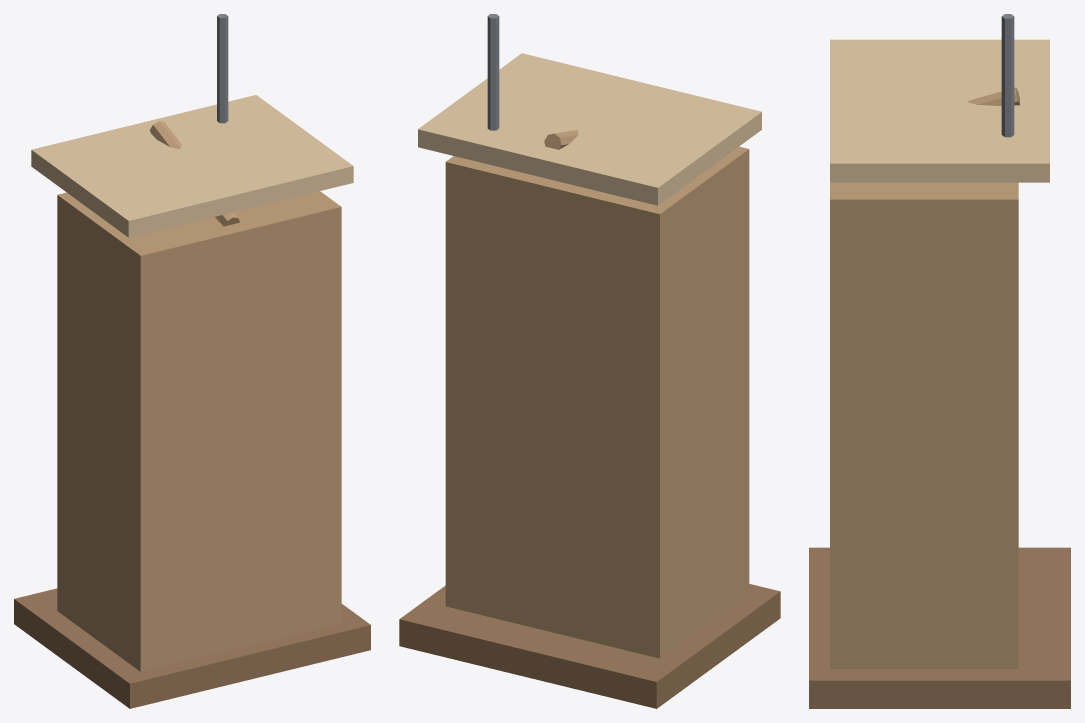
Rendered from podium.glb.
The picture shows the model from 3 angles, left to right: view 1: azimuth 30°, elevation 25°; view 2: azimuth 150°, elevation 25°; view 3: azimuth 270°, elevation 25°; orthographic projection. The views are drawn at different scales.
Parts seen in each view (by area): view 1: podium; view 2: podium; view 3: podium.
Boxes of the visible parts, <box> form: podium: <box>14,14,370,708</box>; podium: <box>399,14,780,708</box>; podium: <box>809,14,1070,708</box>.
Size of the model in its own units: 0.6 by 1.39 by 0.5.
